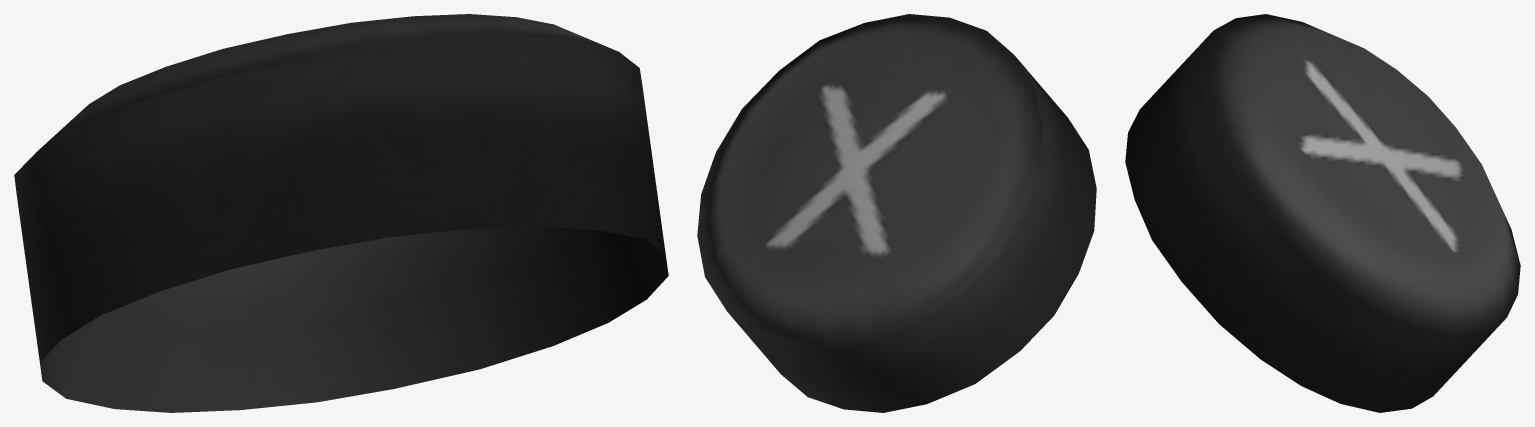
The model's file is L_lowerButton.obj.
The picture shows the model from 3 angles, left to right: view 1: azimuth 30°, elevation 25°; view 2: azimuth 150°, elevation 25°; view 3: azimuth 270°, elevation 25°; orthographic projection. The views are drawn at different scales.
Parts seen in each view (by area): view 1: L_lowerButton; view 2: L_lowerButton; view 3: L_lowerButton.
Part boxes in pixels (box(x1,y1,x2,y2)): L_lowerButton: box(14, 14, 668, 412); L_lowerButton: box(697, 14, 1096, 412); L_lowerButton: box(1125, 14, 1520, 412).
Size of the model in its own units: 0.0108 by 0.00906 by 0.00992.
Materials: 1 (1 with a texture image).
